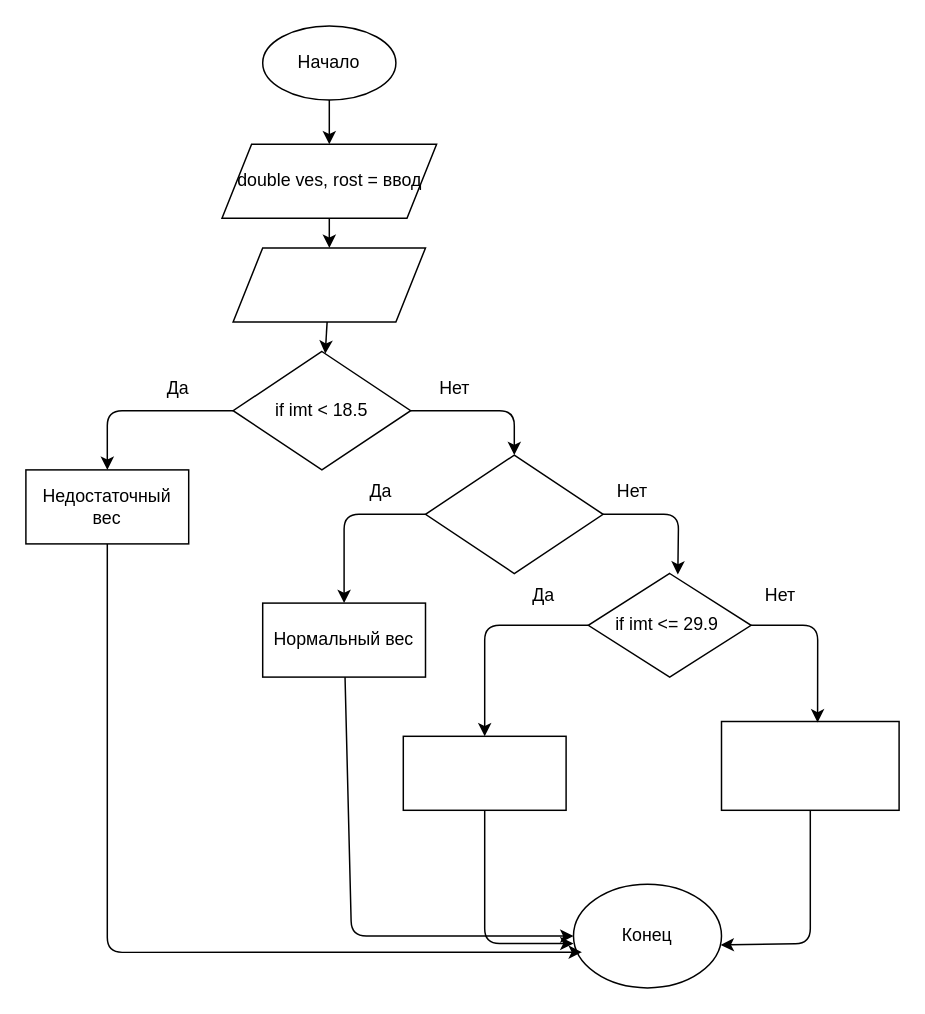
Some shapes in this 925 by 1014 pixel diagram are drawn without their labels. Each missing label, with the box of its shape:
double imt = ves / (rost*rost): (232, 246, 426, 322)
if imt <= 24.9: (424, 454, 603, 574)
Избыточный вес: (402, 735, 566, 810)
Ожирение: (720, 720, 899, 810)
